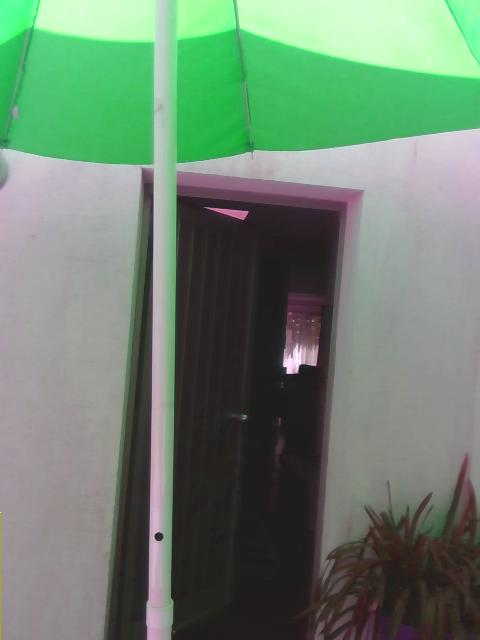semi_door: (106, 163, 363, 639)
